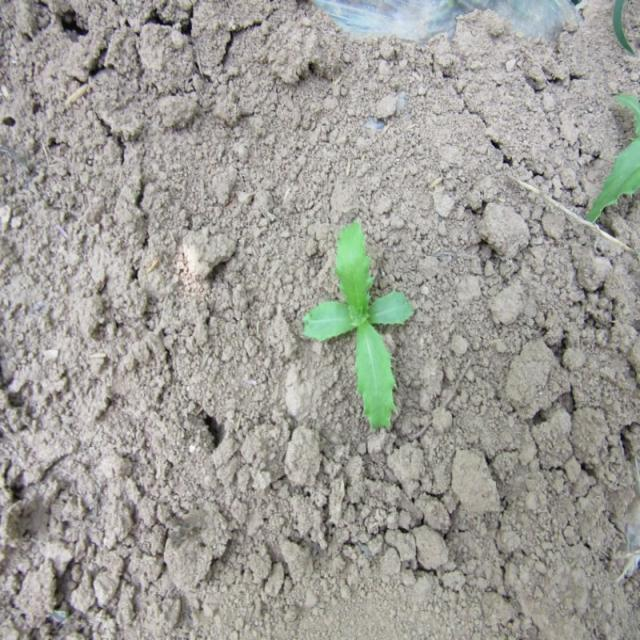cs: (298, 214, 418, 435)
